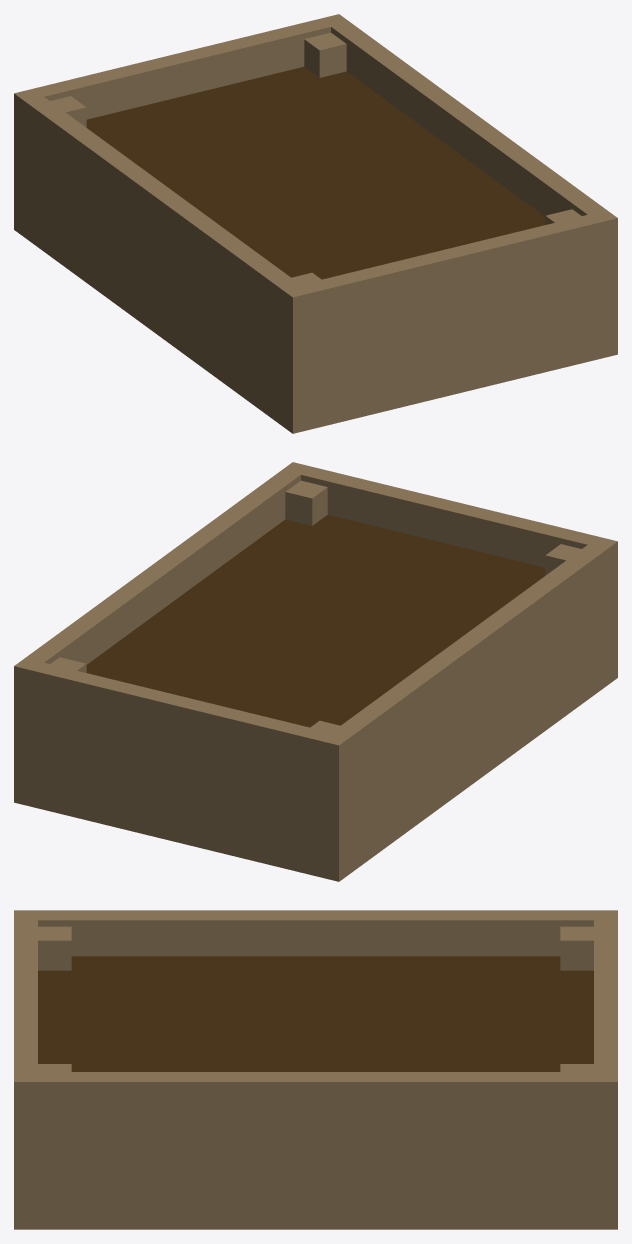
File: Shelf_Medium_A_01.fbx
3 views of the same model, one above another, from view 1: azimuth 30°, elevation 25°; view 2: azimuth 150°, elevation 25°; view 3: azimuth 270°, elevation 25° (orthographic). The views are drawn at different scales.
Visible parts, largest first — view 1: polySurface52, polySurface55, polySurface69; view 2: polySurface52, polySurface55, polySurface68; view 3: polySurface52, polySurface55, polySurface68, polySurface70.
Part boxes in pixels (<box>): polySurface52: <box>14,14,617,433</box>; polySurface55: <box>86,66,545,279</box>; polySurface69: <box>304,32,346,77</box>; polySurface52: <box>14,462,617,881</box>; polySurface55: <box>86,514,545,727</box>; polySurface68: <box>285,480,581,575</box>; polySurface52: <box>14,910,617,1229</box>; polySurface55: <box>38,956,593,1071</box>; polySurface68: <box>38,926,71,1071</box>; polySurface70: <box>560,926,593,970</box>.
Size of the model in its own units: 136 by 54.53 by 202.
